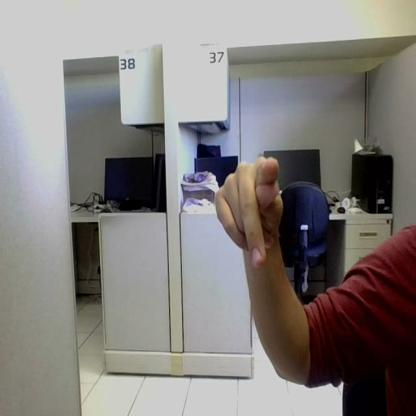P: (215, 157, 283, 267)
